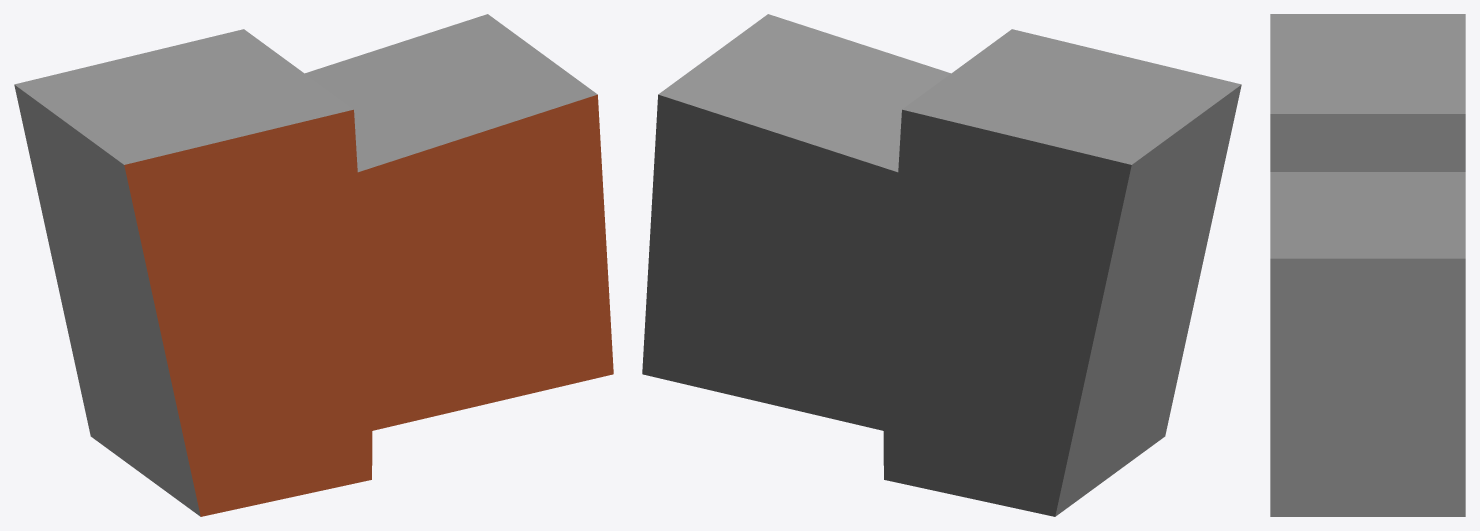
The model's file is construction_3068_assumed_A_Casa_h6m.obj.
3 renders of one model, left to right at view 1: azimuth 30°, elevation 25°; view 2: azimuth 150°, elevation 25°; view 3: azimuth 270°, elevation 25°, orthographic. The views are drawn at different scales.
Parts seen in each view (by area): view 1: construction_3068_assumed_A_Casa; view 2: construction_3068_assumed_A_Casa; view 3: construction_3068_assumed_A_Casa.
Boxes of the visible parts, <box> form: construction_3068_assumed_A_Casa: <box>14,14,613,516</box>; construction_3068_assumed_A_Casa: <box>642,14,1241,516</box>; construction_3068_assumed_A_Casa: <box>1270,14,1465,516</box>.
Bounding box in the file's own units: 15.41 × 11.29 × 6.
